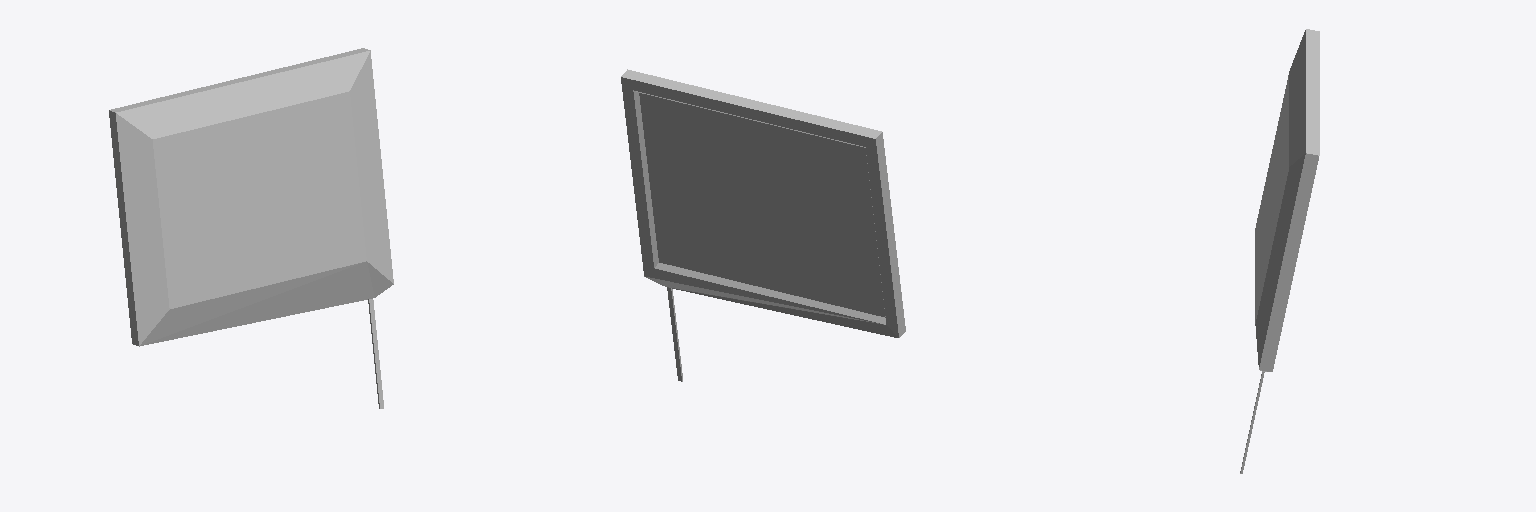
The model's file is developer_portable.obj.
3 renders of one model, left to right at view 1: azimuth 30°, elevation 25°; view 2: azimuth 150°, elevation 25°; view 3: azimuth 270°, elevation 25°, orthographic.
Parts seen in each view (by area): view 1: default; view 2: default; view 3: default.
Boxes of the visible parts, x1=… form: default: x1=109, y1=48, x2=393, y2=408; default: x1=621, y1=69, x2=905, y2=381; default: x1=1240, y1=29, x2=1319, y2=473.
Bounding box in the file's own units: 2.42 × 2.99 × 0.6495.